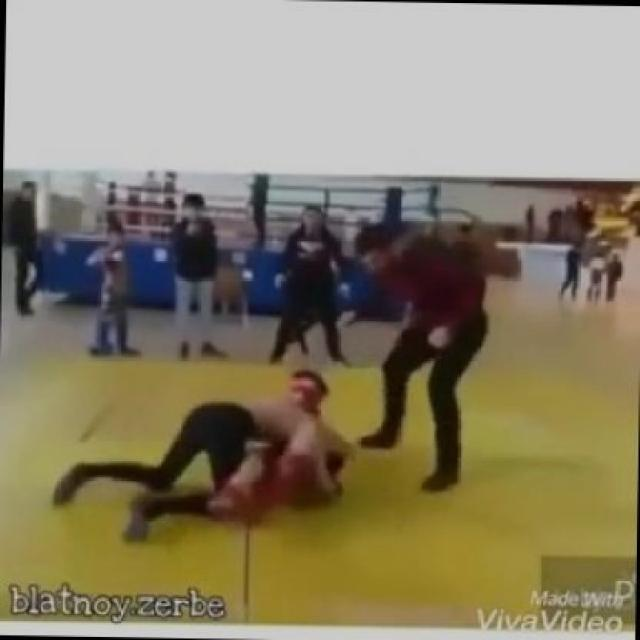fight: (40, 362, 366, 557)
non-fight: (325, 209, 513, 502), (154, 188, 238, 363), (3, 175, 49, 317)
